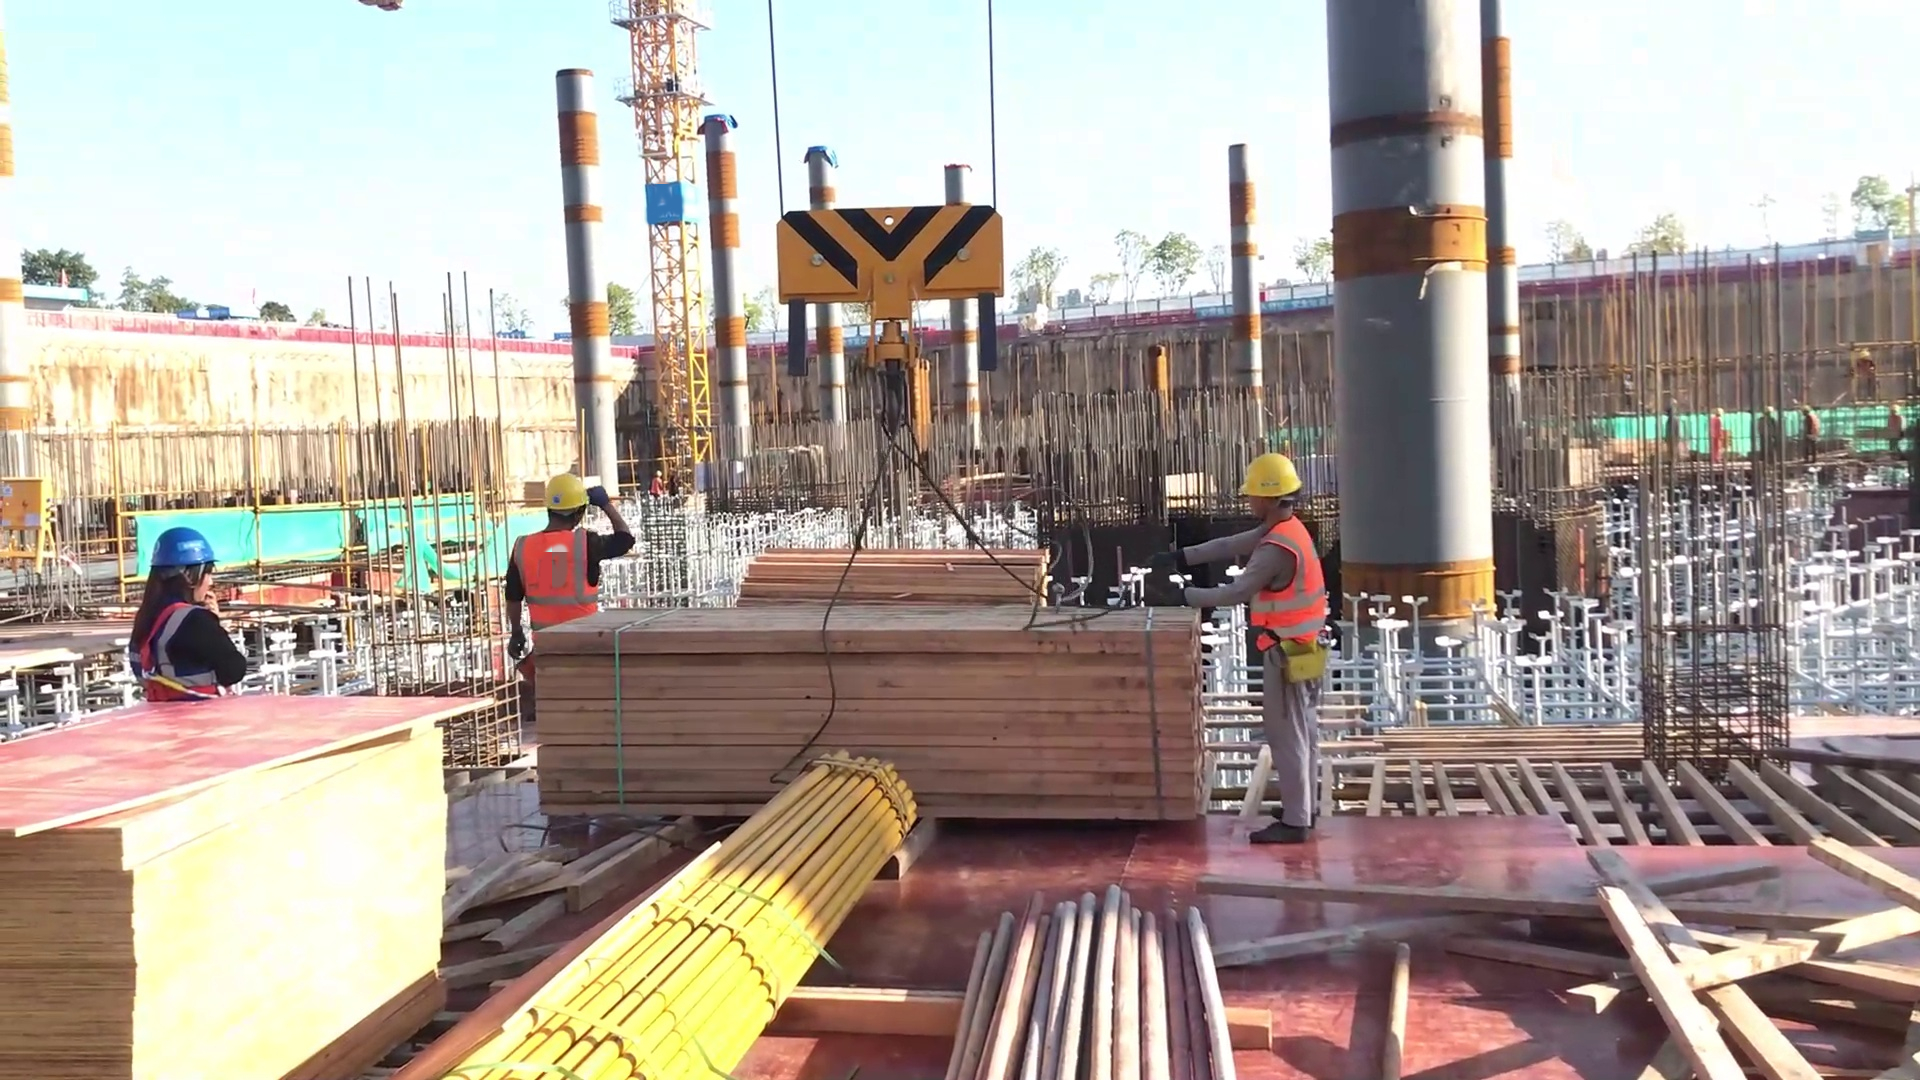board: (4, 596, 524, 1077)
ebox: (1, 477, 67, 580)
helmet: (136, 520, 219, 576), (536, 470, 613, 522), (1233, 441, 1293, 501)
hook: (759, 199, 1013, 460)
person: (1138, 415, 1340, 853), (486, 458, 638, 658), (129, 522, 258, 696)
rebar: (950, 897, 1233, 1080)
vest: (1243, 520, 1328, 653), (506, 523, 605, 631), (125, 596, 220, 699)
wood: (500, 593, 1235, 834)
